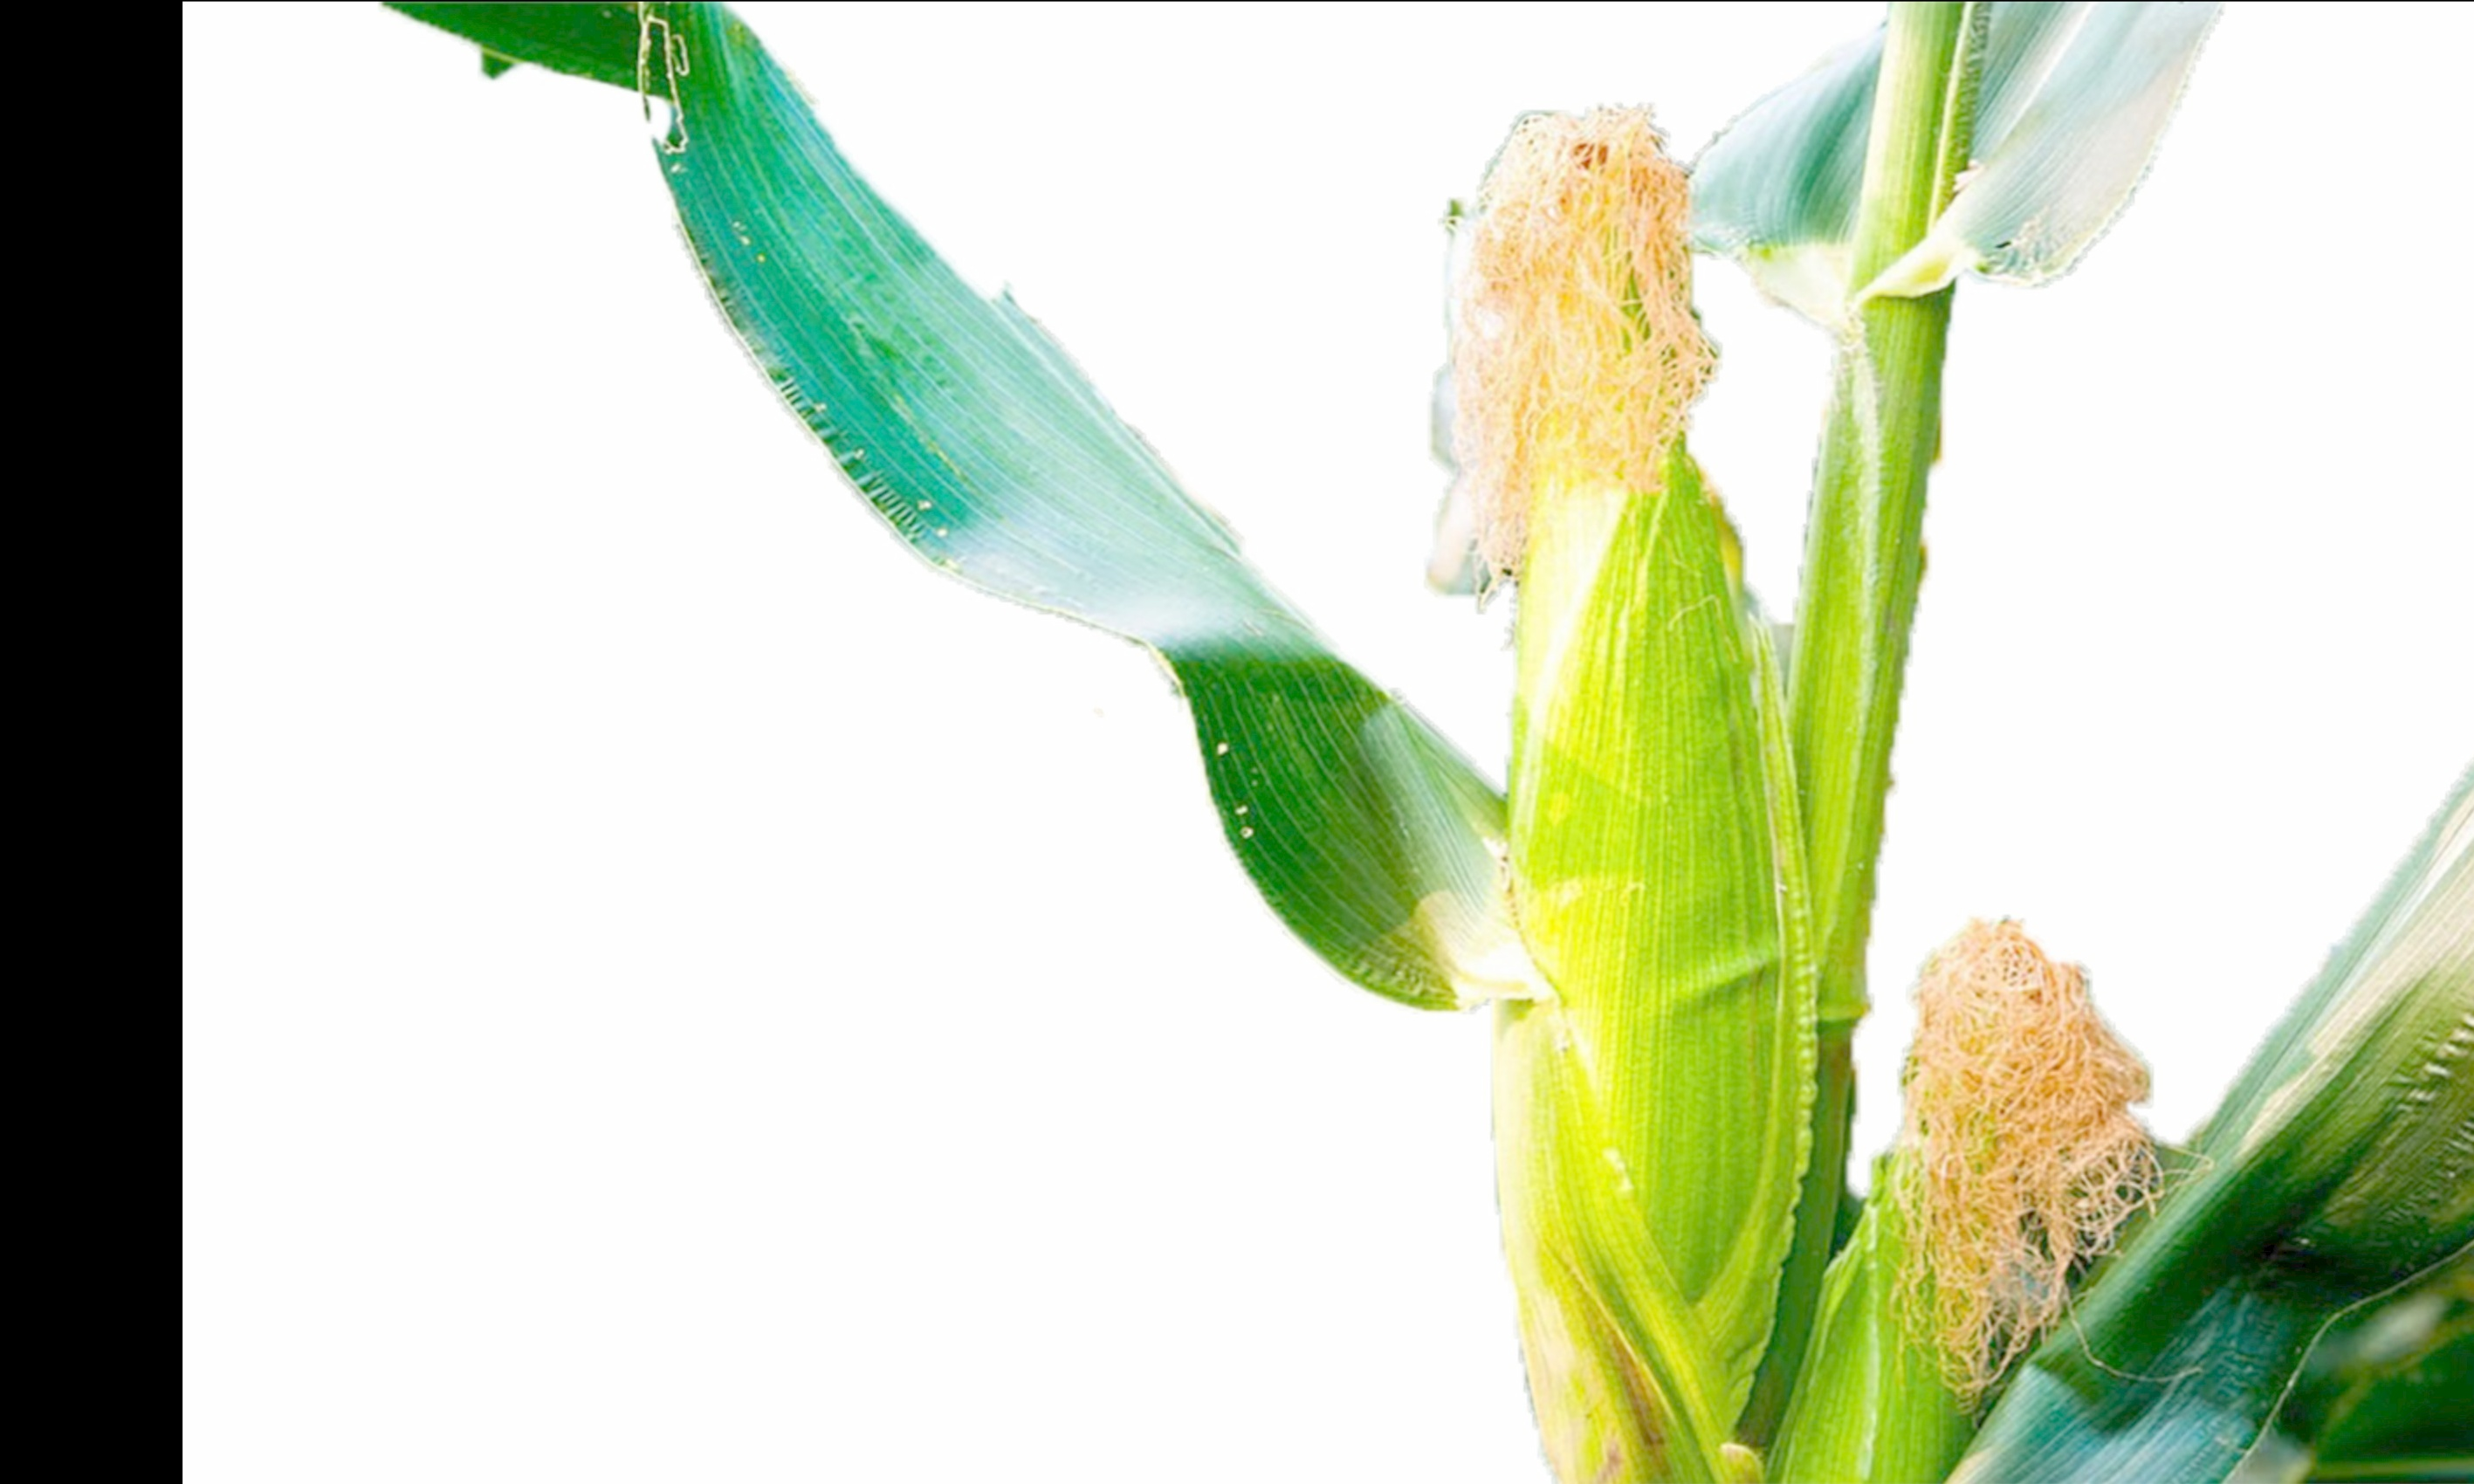corn_plant: (1335, 74, 1805, 1450)
